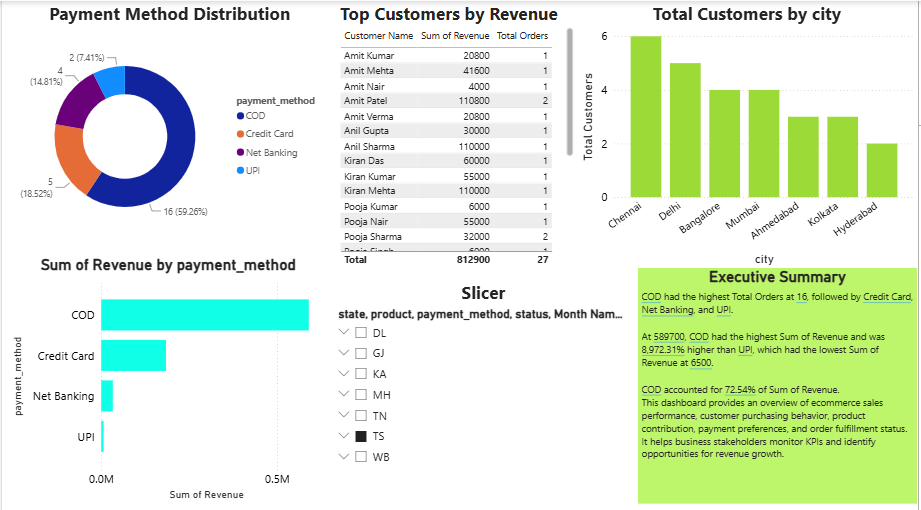

What the dashboard file says about the page in this screenshot:
{"tool":"powerbi","page":{"name":"Ecommerce Sales Performance Dashboard3","canvas":[1280,720],"ordinal":2},"visuals":[{"type":"donutChart","title":"Payment Method Distribution","fields":{"Category":["ecommerce_sales.payment_method"],"Y":["ecommerce_sales.Total Orders"]},"box":[9.4,0,447.9,345.8],"z":0},{"type":"clusteredBarChart","fields":{"Category":["ecommerce_sales.payment_method"],"Y":["Sum(ecommerce_sales.Revenue)"]},"box":[9,356,448,346],"z":1000},{"type":"tableEx","title":"Top Customers by Revenue","fields":{"Values":["ecommerce_sales.Customer Name","Sum(ecommerce_sales.Revenue)","ecommerce_sales.Total Orders"]},"box":[467.4,0,335.4,375.2],"z":2000},{"type":"clusteredColumnChart","fields":{"Category":["ecommerce_sales.city"],"Y":["ecommerce_sales.Total Customers"]},"box":[803.2,0,476.2,374.2],"z":3000},{"type":"slicer","title":"Slicer","fields":{"Values":["ecommerce_sales.state","ecommerce_sales.product","ecommerce_sales.payment_method","ecommerce_sales.status","DateTable.Month Name1"]},"box":[457,389.9,431.8,329.1],"z":4000},{"type":"textbox","title":"Executive Summary","box":[888.7,373.1,389.9,329.1],"z":5000}]}

Visuals, with their boxes in screenshot pixels (x1, y1, x2, y2), scaled from the page's 1280x720 canvas onto the 921x510 screenshot:
"Payment Method Distribution" donutChart: select_region(7, 0, 329, 245)
clusteredBarChart - ecommerce_sales.payment_method x Sum(ecommerce_sales.Revenue): select_region(6, 252, 329, 497)
"Top Customers by Revenue" tableEx: select_region(336, 0, 578, 266)
clusteredColumnChart - ecommerce_sales.city x ecommerce_sales.Total Customers: select_region(578, 0, 920, 265)
"Slicer" slicer: select_region(329, 276, 640, 509)
"Executive Summary" textbox: select_region(639, 264, 920, 497)
